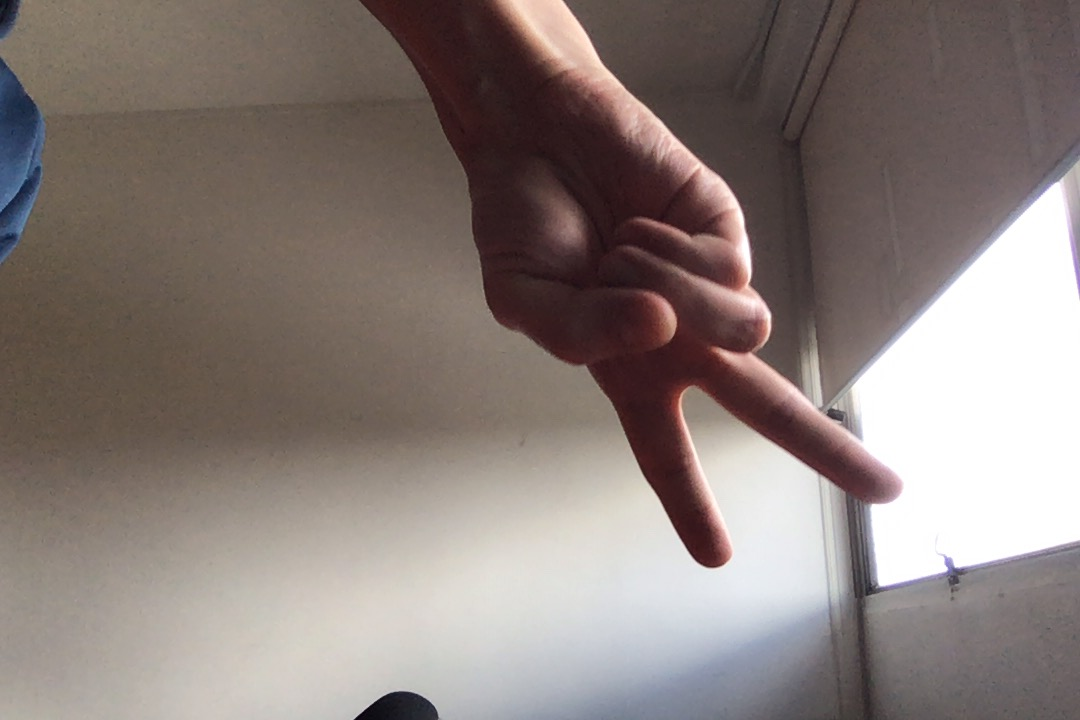peacesign: (455, 76, 917, 574)
